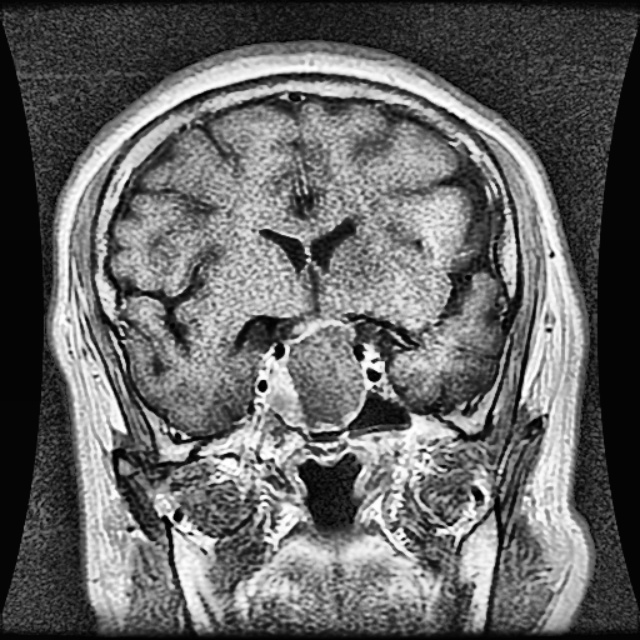Pituitary: (287, 322, 367, 423)
